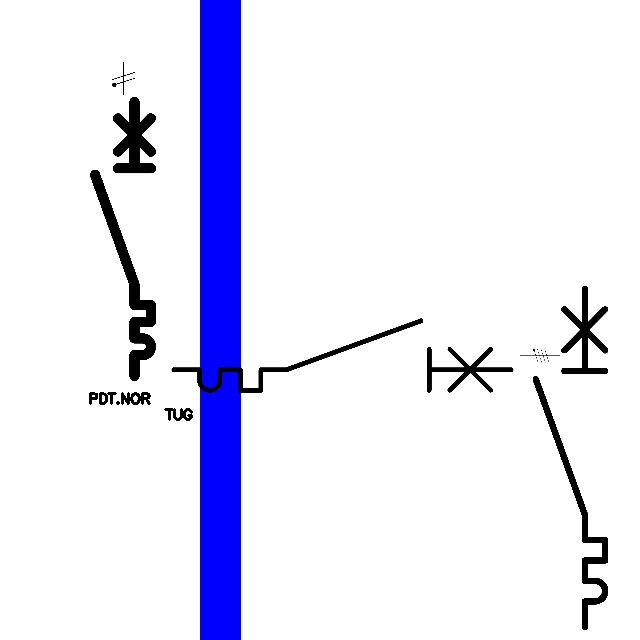interruptor_termomagnetico: (527, 280, 614, 636), (165, 312, 520, 399), (88, 94, 158, 383)
